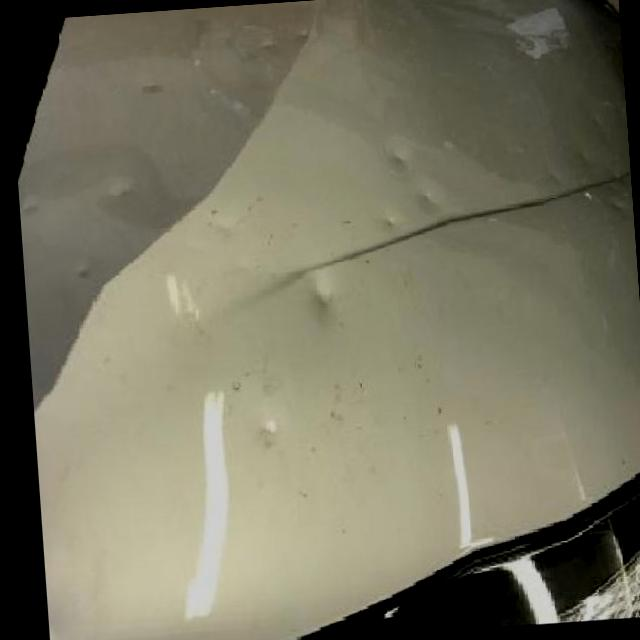dent: (308, 274, 341, 314), (253, 414, 280, 445), (383, 149, 411, 174), (414, 184, 441, 209), (102, 175, 132, 197), (70, 261, 92, 279), (21, 198, 38, 216), (574, 148, 592, 164), (607, 196, 625, 212), (382, 212, 399, 228), (590, 118, 602, 130)
